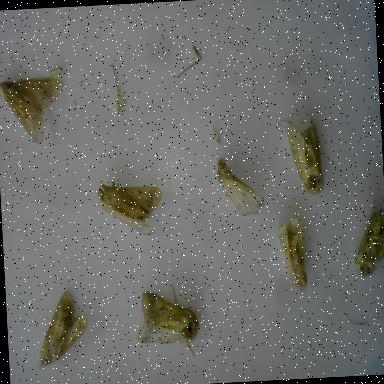abw: (132, 280, 202, 362), (0, 72, 69, 150), (94, 174, 166, 244), (32, 288, 92, 371), (213, 146, 267, 222), (284, 112, 326, 200), (273, 214, 310, 296), (350, 201, 384, 281)
